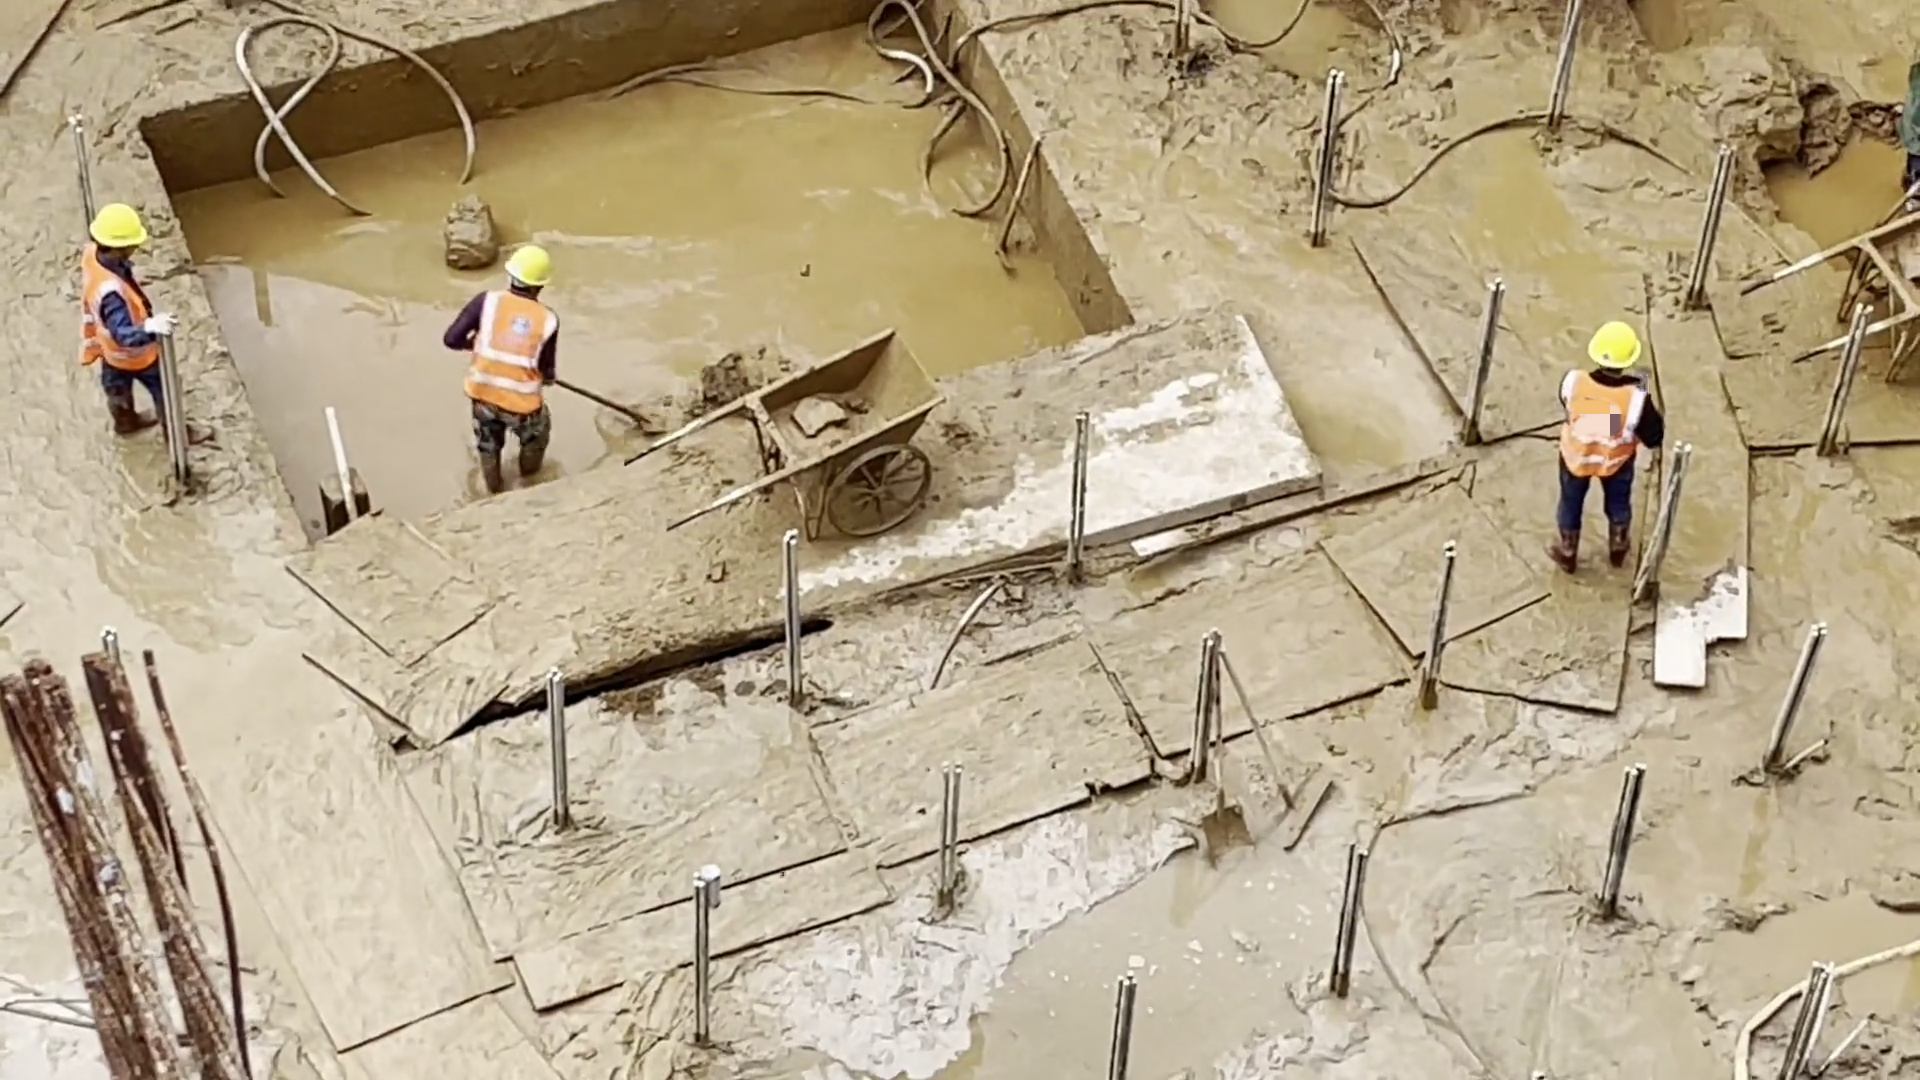handcart: (622, 325, 940, 541)
helmet: (1585, 321, 1643, 369), (89, 205, 148, 250), (503, 241, 556, 286)
person: (78, 201, 215, 441), (1544, 319, 1669, 574), (442, 241, 562, 497)
vest: (460, 283, 553, 416), (78, 248, 163, 372), (1561, 366, 1647, 479)
